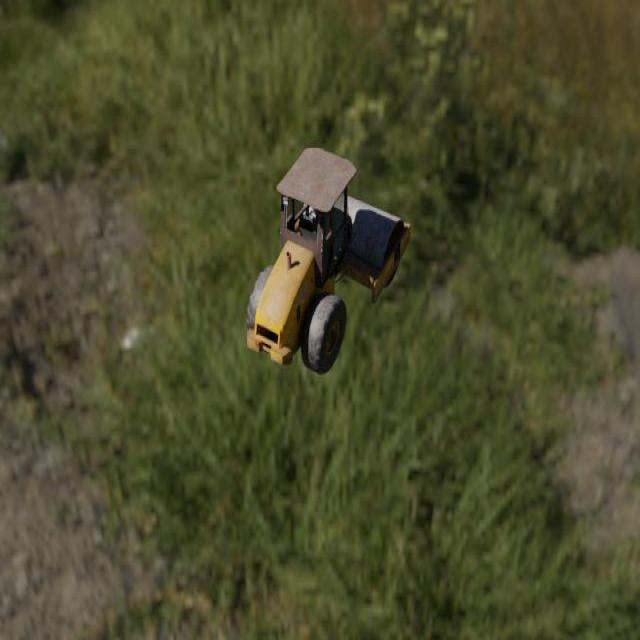Roller: (246, 146, 411, 374)
